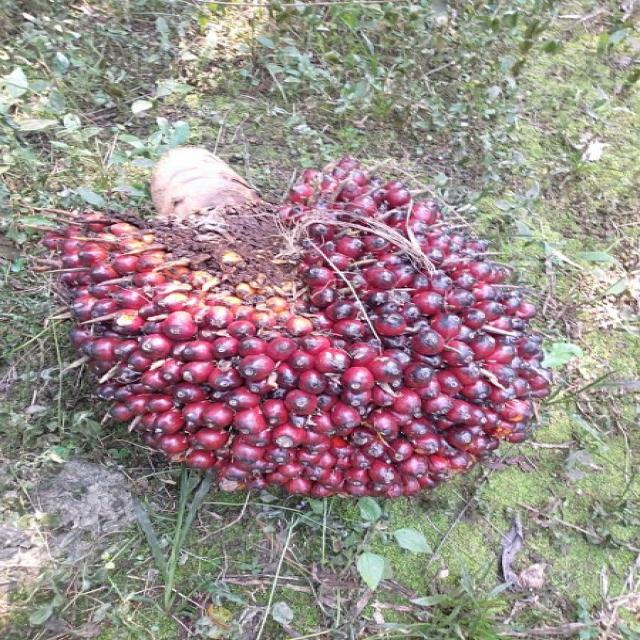fraksi 1: (49, 139, 575, 550)
